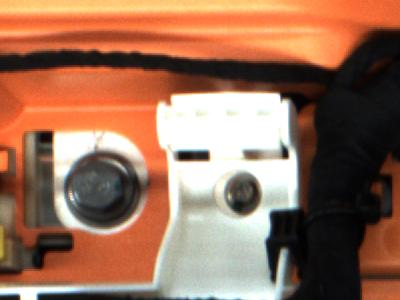nut_b: (63, 151, 146, 226)
